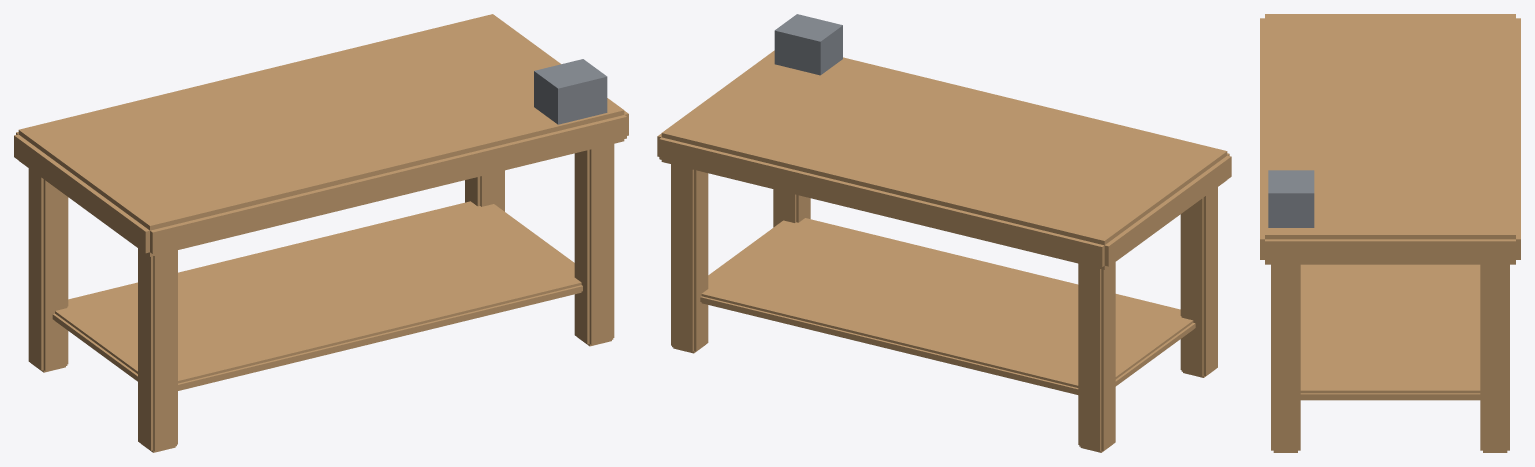
Rendered from palm_workbench_v0.glb.
3 views of the same model, side by side, from view 1: azimuth 30°, elevation 25°; view 2: azimuth 150°, elevation 25°; view 3: azimuth 270°, elevation 25° (orthographic). The views are drawn at different scales.
Parts seen in each view (by area): view 1: palm_workbench_v0; view 2: palm_workbench_v0; view 3: palm_workbench_v0.
Part boxes in pixels (x1,y1,x2,y2): palm_workbench_v0: (14, 14, 628, 452); palm_workbench_v0: (657, 14, 1231, 452); palm_workbench_v0: (1260, 14, 1520, 452).
Bounding box in the file's own units: 1.96 × 1.04 × 0.96.
